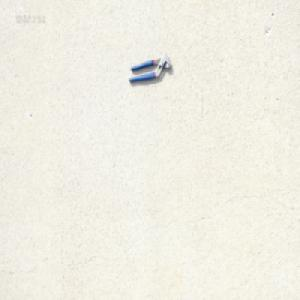Pliers: (128, 54, 172, 84)
